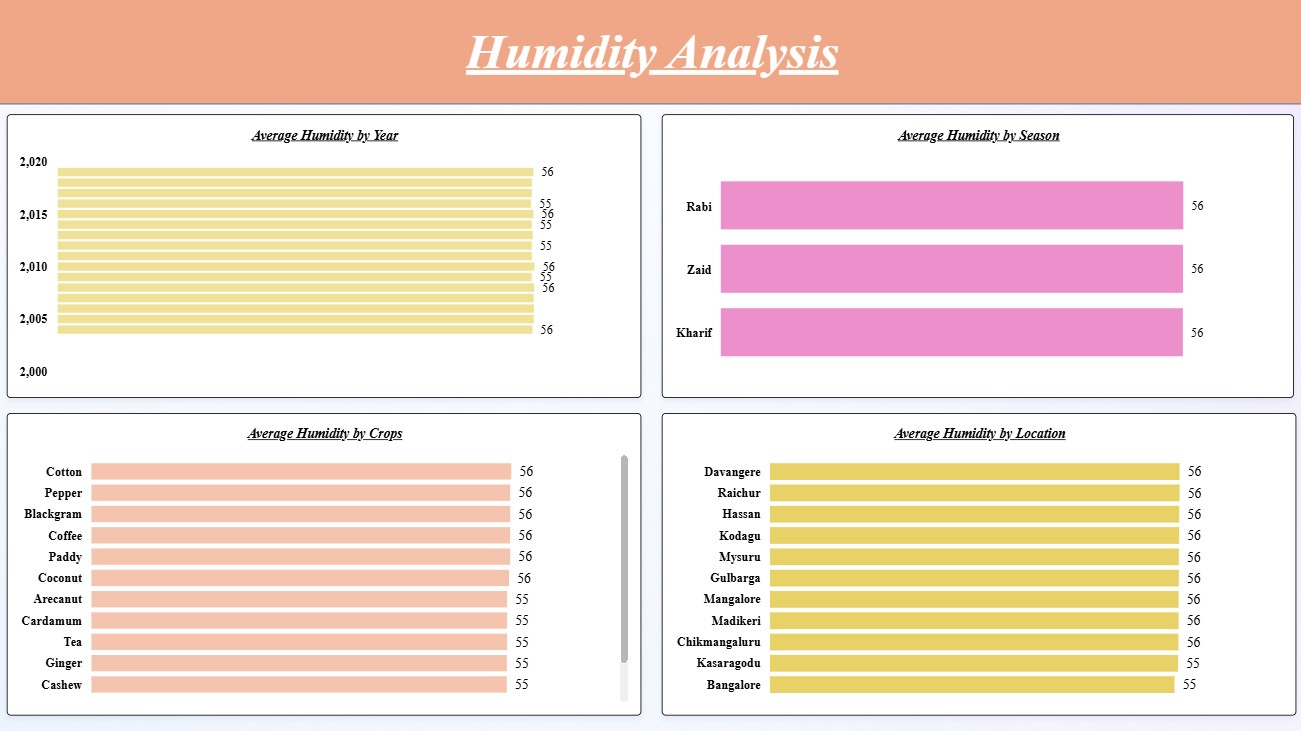

The dashboard page shown, as its layout file describes it:
{"tool":"powerbi","page":{"name":"Humidity Analysis","canvas":[1280,720],"ordinal":2},"visuals":[{"type":"shape","box":[0,0,1280.3,104.3],"z":0},{"type":"barChart","title":"Average Humidity by Year ","fields":{"Category":["AGRICULTURE.YEAR"],"Y":["Avg(AGRICULTURE.HUMIDITY)"]},"box":[8.6,113.7,621.2,277.6],"z":1000},{"type":"barChart","title":"Average Humidity by Season","fields":{"Category":["AGRICULTURE.SEASON"],"Y":["Avg(AGRICULTURE.HUMIDITY)"]},"box":[649.3,113.7,618.8,277.6],"z":2000},{"type":"barChart","title":"Average Humidity by Crops","fields":{"Category":["AGRICULTURE.CROPS"],"Y":["Avg(AGRICULTURE.HUMIDITY)"]},"box":[8.6,406,621.2,295.9],"z":3000},{"type":"barChart","title":"Average Humidity by Location","fields":{"Category":["AGRICULTURE.LOCATION"],"Y":["Avg(AGRICULTURE.HUMIDITY)"]},"box":[649.3,406,621.2,295.9],"z":4000}]}

Visuals, with their boxes in screenshot pixels (x1, y1, x2, y2), scaled from the page's 1280x720 canvas onto the 1301x731 screenshot:
shape: x1=0 y1=0 x2=1300 y2=106
"Average Humidity by Year " barChart: x1=9 y1=115 x2=640 y2=397
"Average Humidity by Season" barChart: x1=660 y1=115 x2=1289 y2=397
"Average Humidity by Crops" barChart: x1=9 y1=412 x2=640 y2=713
"Average Humidity by Location" barChart: x1=660 y1=412 x2=1291 y2=713
